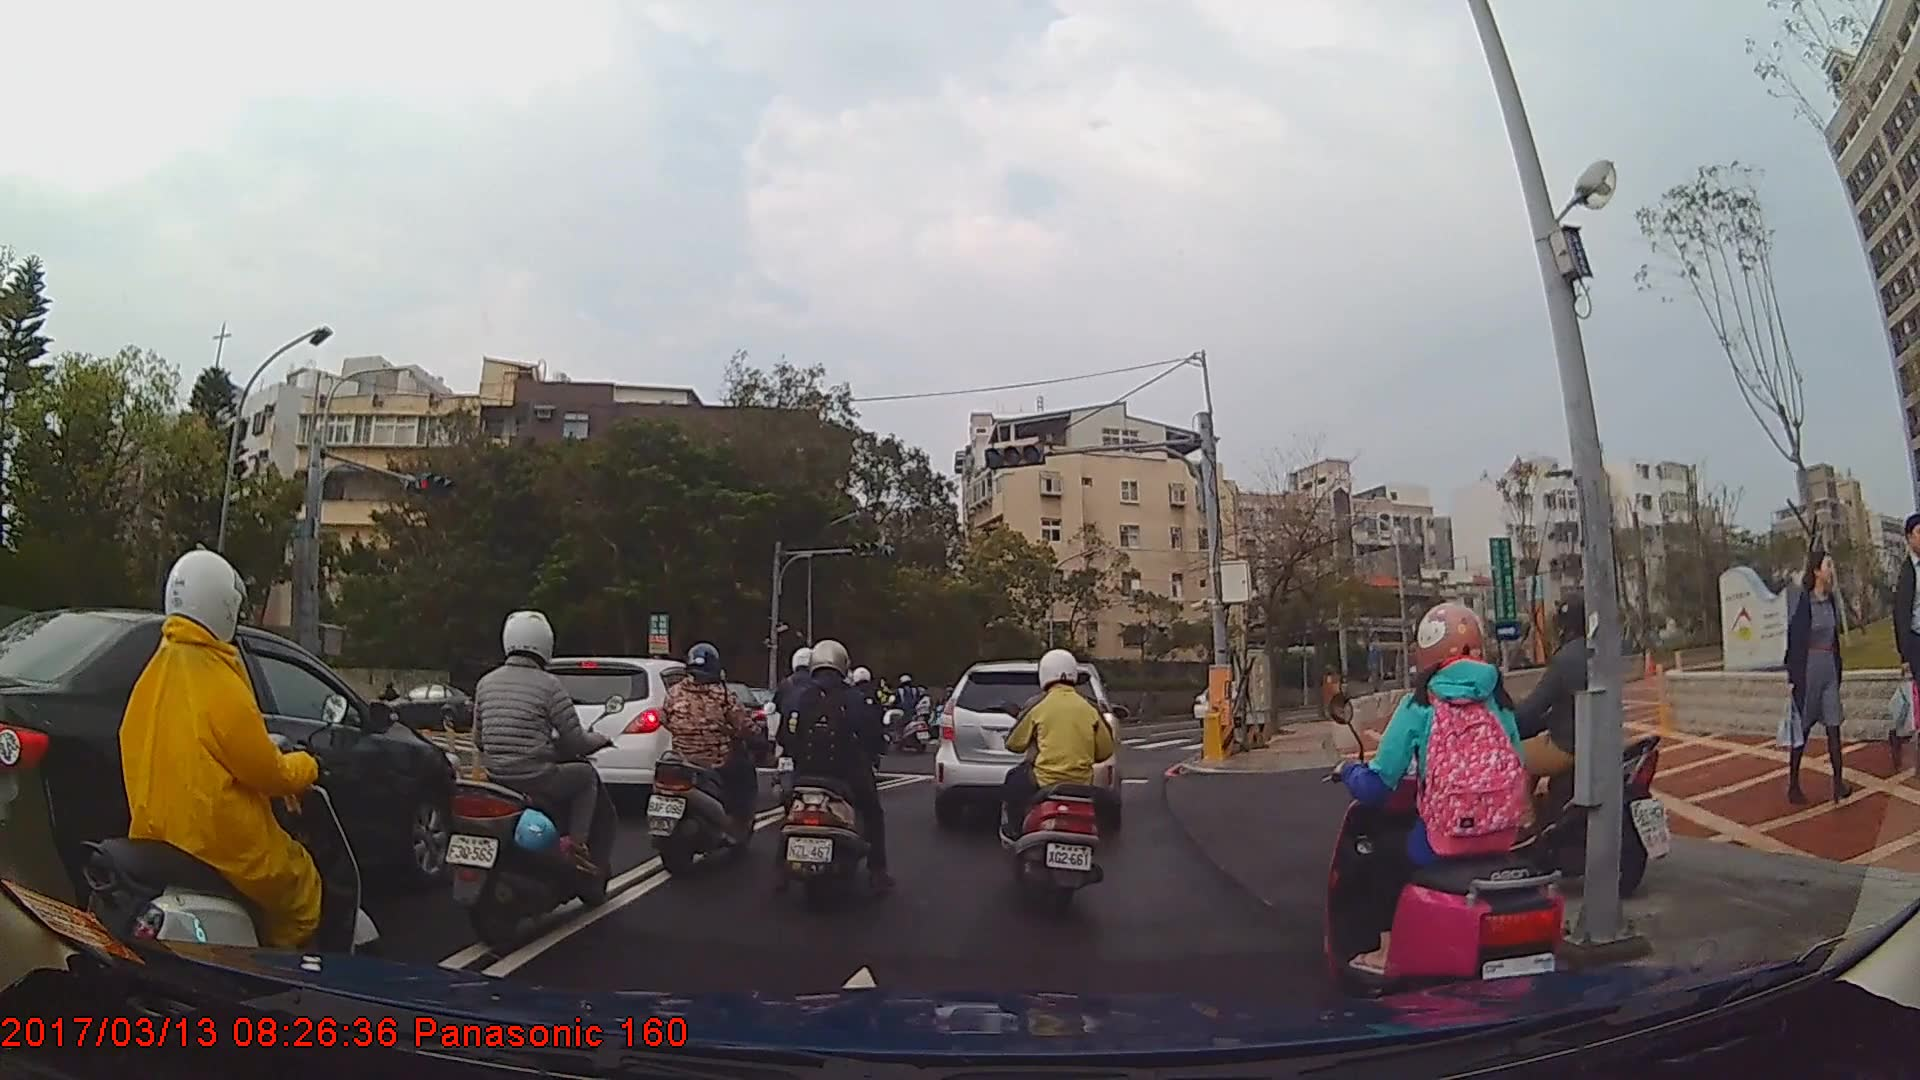pedestrian: (1794, 556, 1864, 808)
rider: (85, 545, 385, 1006), (1330, 606, 1562, 1013), (447, 606, 619, 952), (1473, 600, 1650, 903), (774, 638, 898, 915), (1000, 649, 1117, 912), (643, 642, 769, 877)
vehicle: (0, 605, 461, 942), (517, 657, 751, 817), (928, 661, 1122, 828), (383, 682, 487, 731)
